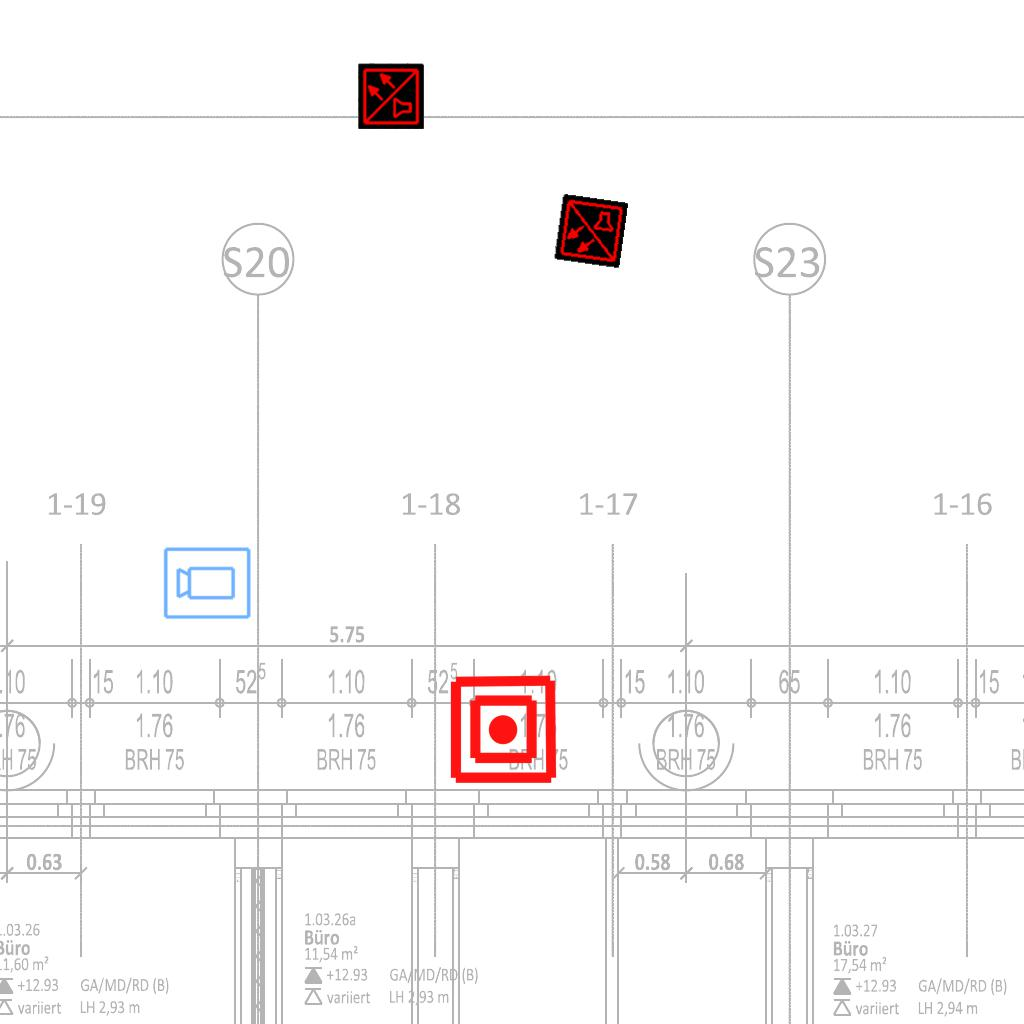KFO_Kamera_mit_Festobjektiv: (162, 544, 253, 621)
NAM-Nichtautomatischer_Melder: (447, 673, 560, 786)
OKW_Multisensormelder_(Kombination_optischer_Rauch-Kahlenmonoxid_Waerme-Melder): (553, 193, 629, 269), (358, 63, 424, 129)
